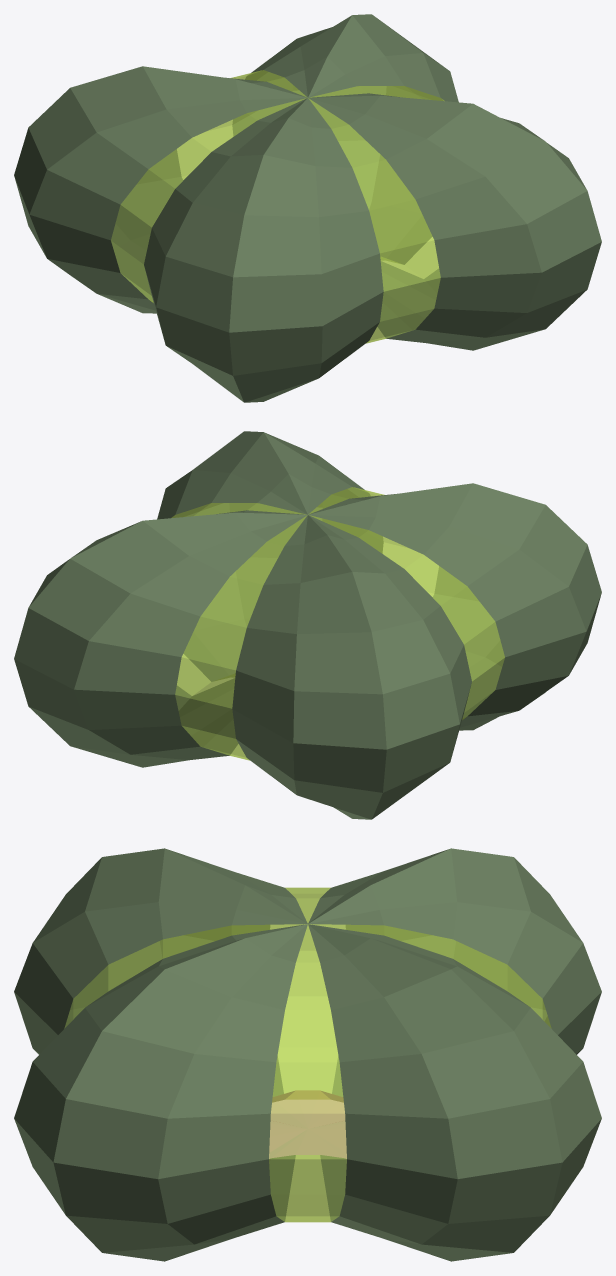
The model's file is Spawner.fbx.
3 views of the same model, one above another, from view 1: azimuth 30°, elevation 25°; view 2: azimuth 150°, elevation 25°; view 3: azimuth 270°, elevation 25° (orthographic). The views are drawn at different scales.
Visible parts, largest first — view 1: Spawner; view 2: Spawner; view 3: Spawner.
Part boxes in pixels (x1,y1,x2,y2): Spawner: [14, 14, 601, 402]; Spawner: [14, 431, 601, 819]; Spawner: [14, 848, 601, 1261].
Size of the model in its own units: 4.04 by 2.21 by 4.04.
